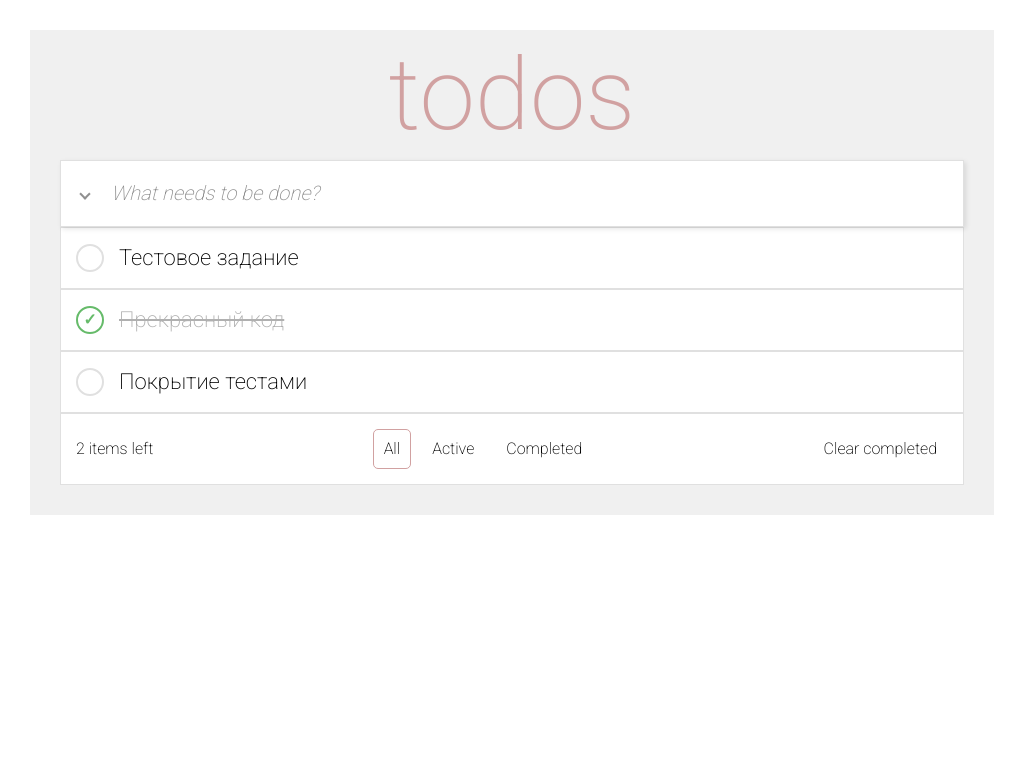
Test case: Фильтрация › Фильтрация задач
This screenshot has width=1024, height=768.
In the field with placeholder "What needs to be done?": (512, 194) [81,181,943,206], type "Отправить посылку"
Then press Enter
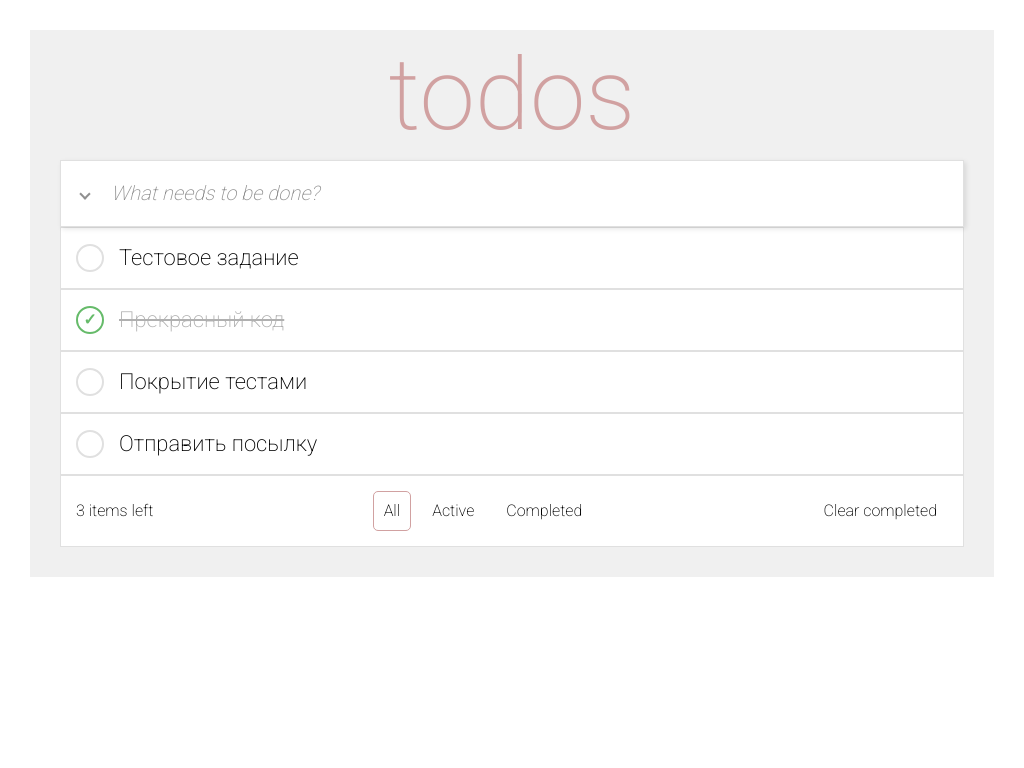
In the field with placeholder "What needs to be done?": (512, 194) [81,181,943,206], type "Покормить кота"
Then press Enter
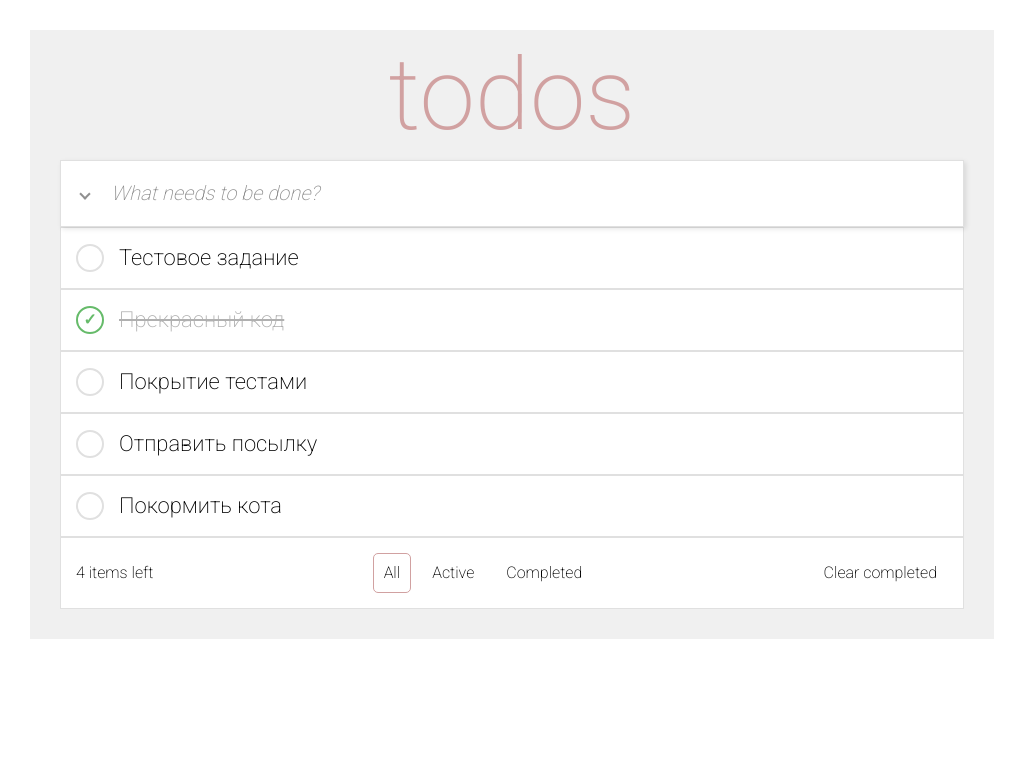
Click the checkbox next to "Покормить кота": click(90, 506) [76,492,104,520]
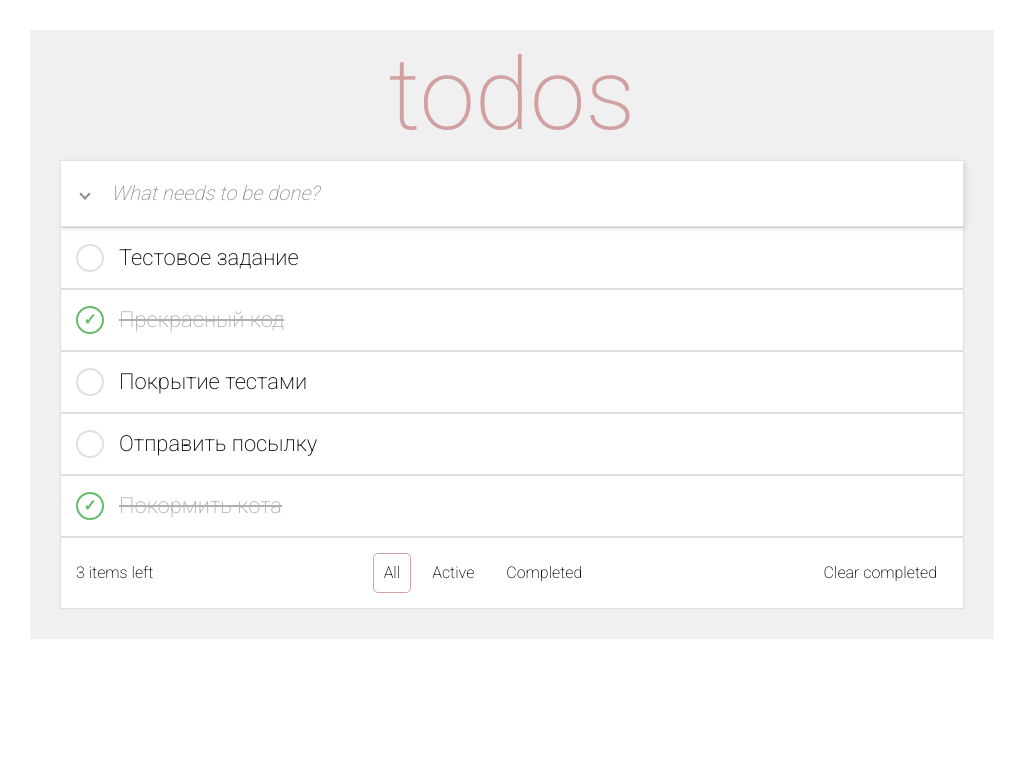
Expected: the text "Покормить кота" is shown, [119,491,282,521]
Expected: the text "Отправить посылку" is shown, [119,429,317,459]
Click the button "Active": click(453, 573) [421,553,485,593]
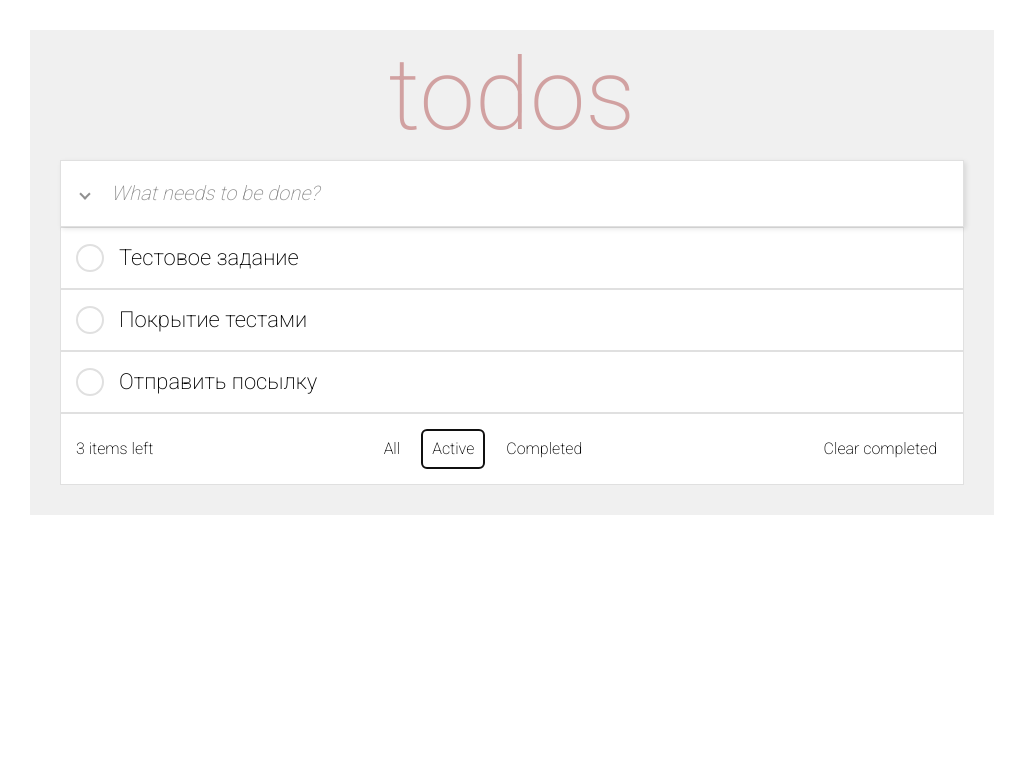
Expected: the text "Отправить посылку" is shown, [119,367,317,397]
Expected: the text "Покормить кота" is gone
Click the button "Completed": click(544, 449) [495,429,593,469]
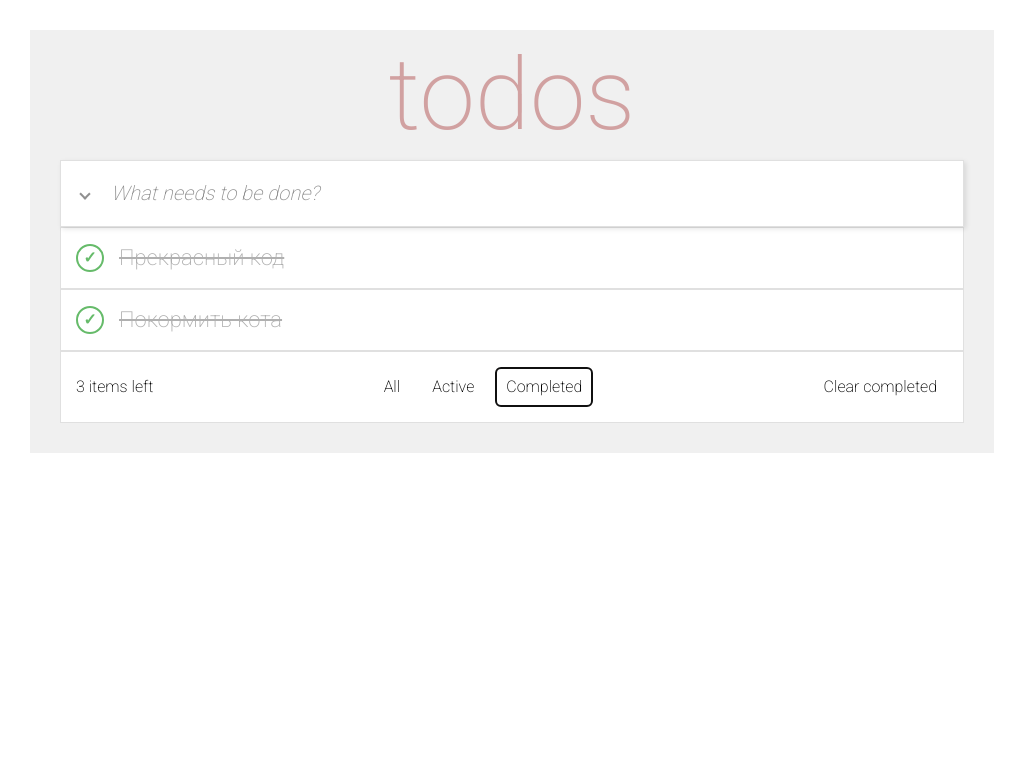
Expected: the text "Покормить кота" is shown, [119,305,282,335]
Expected: the text "Отправить посылку" is gone
